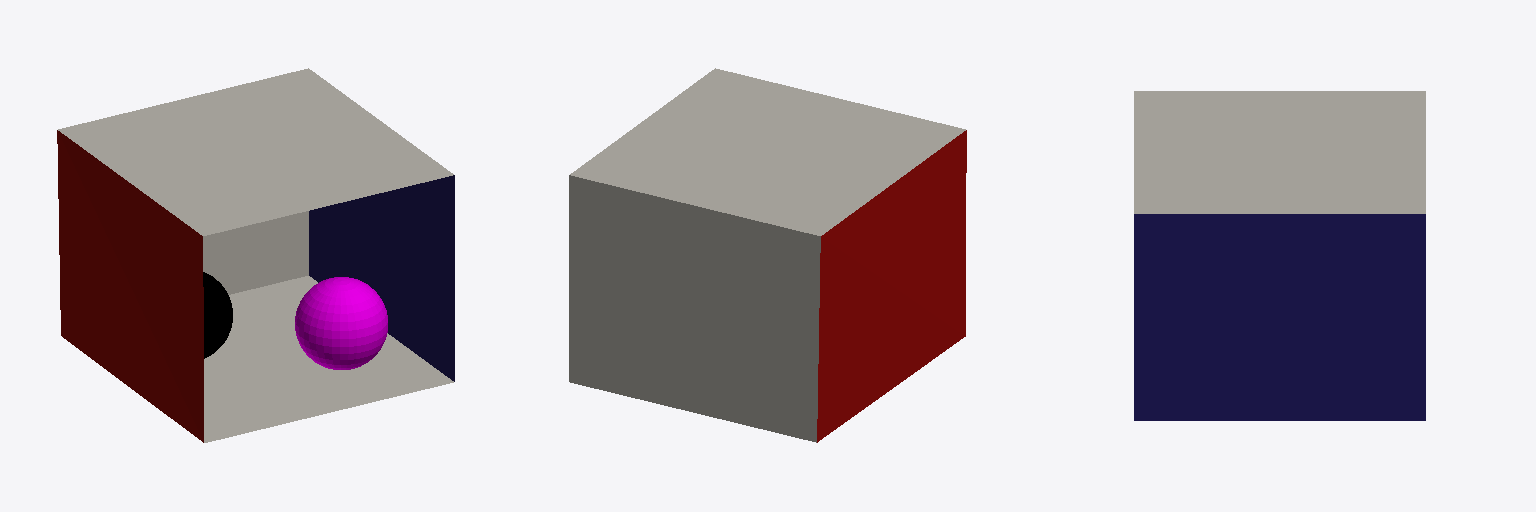
File: CornellBox-Sphere.obj
3 renders of one model, left to right at view 1: azimuth 30°, elevation 25°; view 2: azimuth 150°, elevation 25°; view 3: azimuth 270°, elevation 25°, orthographic.
Visible parts, largest first — view 1: ceiling, leftWall, floor, rightWall, rightSphere, backWall, leftSphere; view 2: backWall, ceiling, leftWall; view 3: rightWall, ceiling.
Part boxes in pixels (left/top/right/bottom): ceiling: left=58, top=68, right=453, bottom=235; leftWall: left=57, top=130, right=203, bottom=442; floor: left=204, top=276, right=453, bottom=442; rightWall: left=309, top=175, right=454, bottom=381; rightSphere: left=295, top=277, right=387, bottom=369; backWall: left=203, top=211, right=308, bottom=294; leftSphere: left=203, top=272, right=232, bottom=358; backWall: left=569, top=175, right=820, bottom=442; ceiling: left=570, top=68, right=965, bottom=235; leftWall: left=817, top=130, right=966, bottom=442; rightWall: left=1134, top=214, right=1425, bottom=420; ceiling: left=1134, top=91, right=1425, bottom=213.
Bounding box in the file's own units: 2.02 × 1.59 × 2.03.